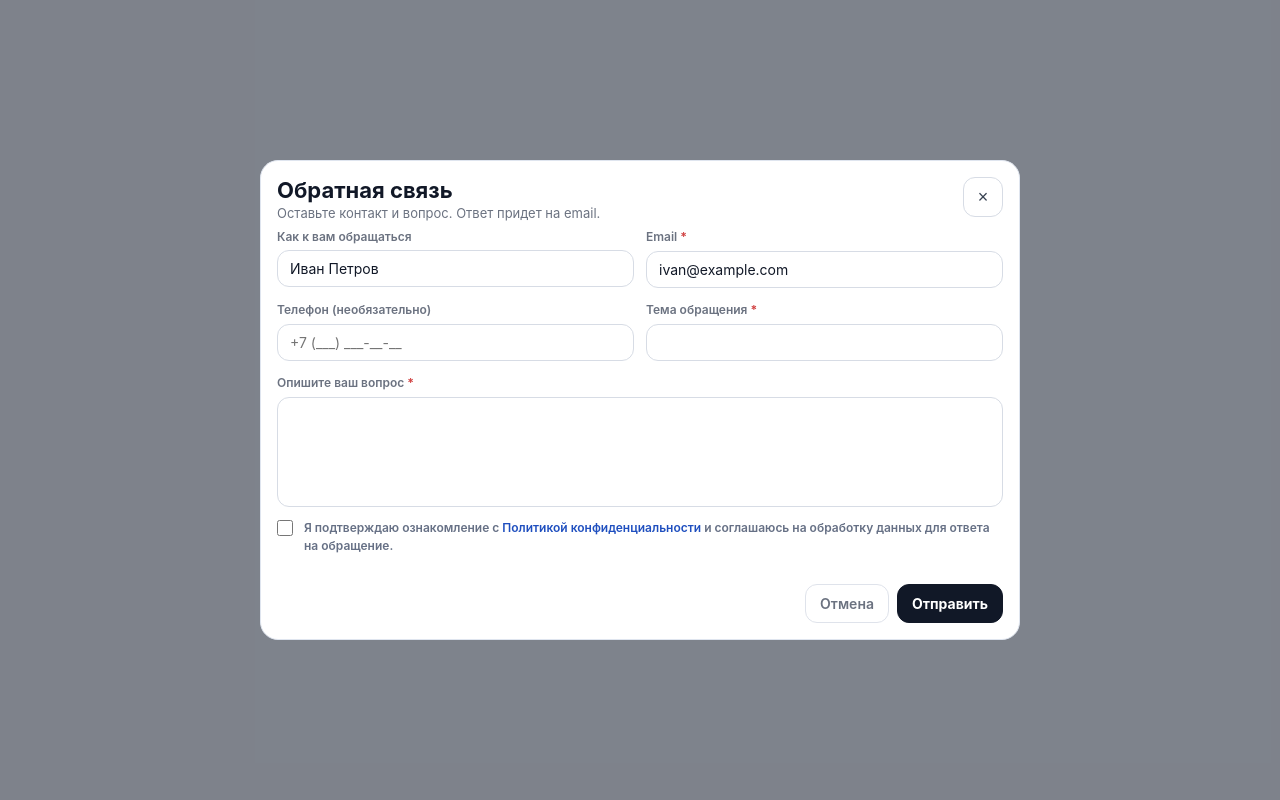
Test case: Feedback modal flow › shows required stars and validates required fields
Click the button "Отправить".
click(950, 603)  # box left=897, top=584, right=1003, bottom=623
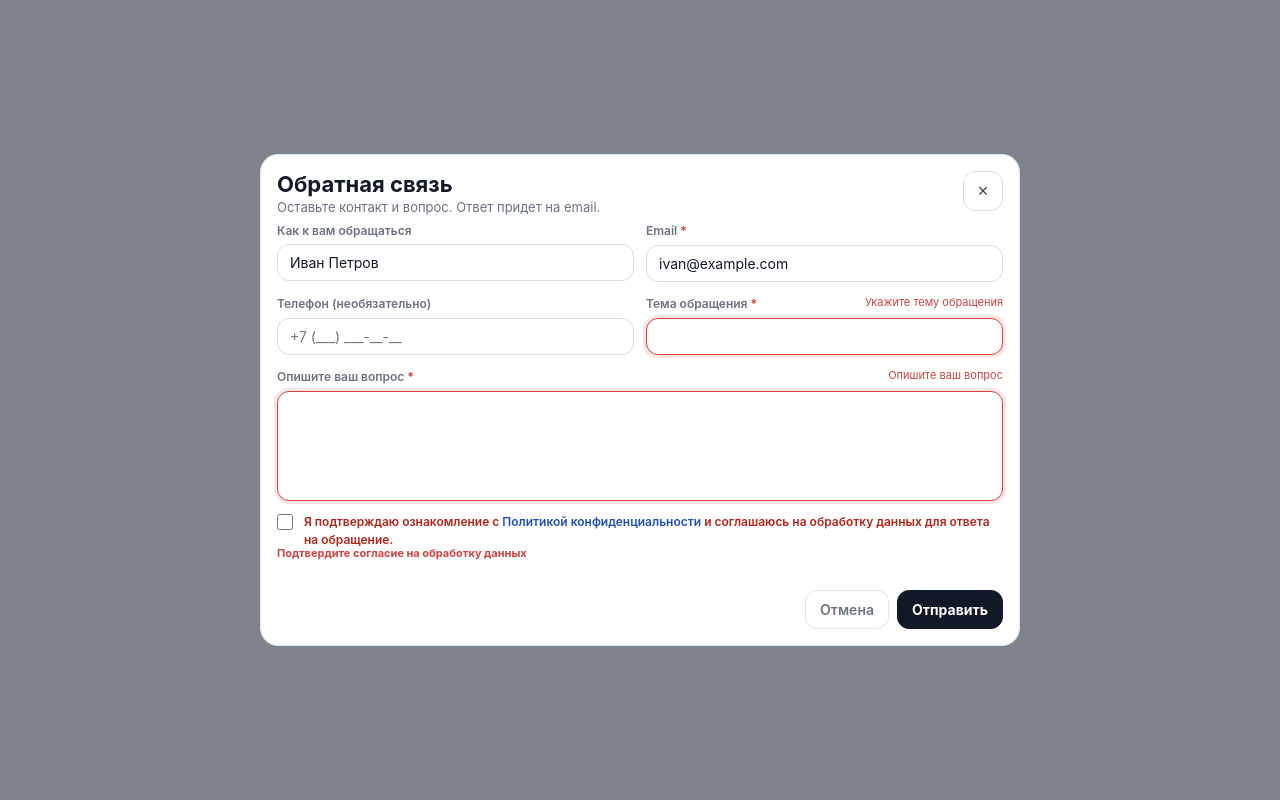
expect the text "Укажите тему обращения" is shown: met, box left=865, top=295, right=1003, bottom=309
expect the text "Опишите ваш вопрос" is shown: met, box left=888, top=368, right=1003, bottom=382
